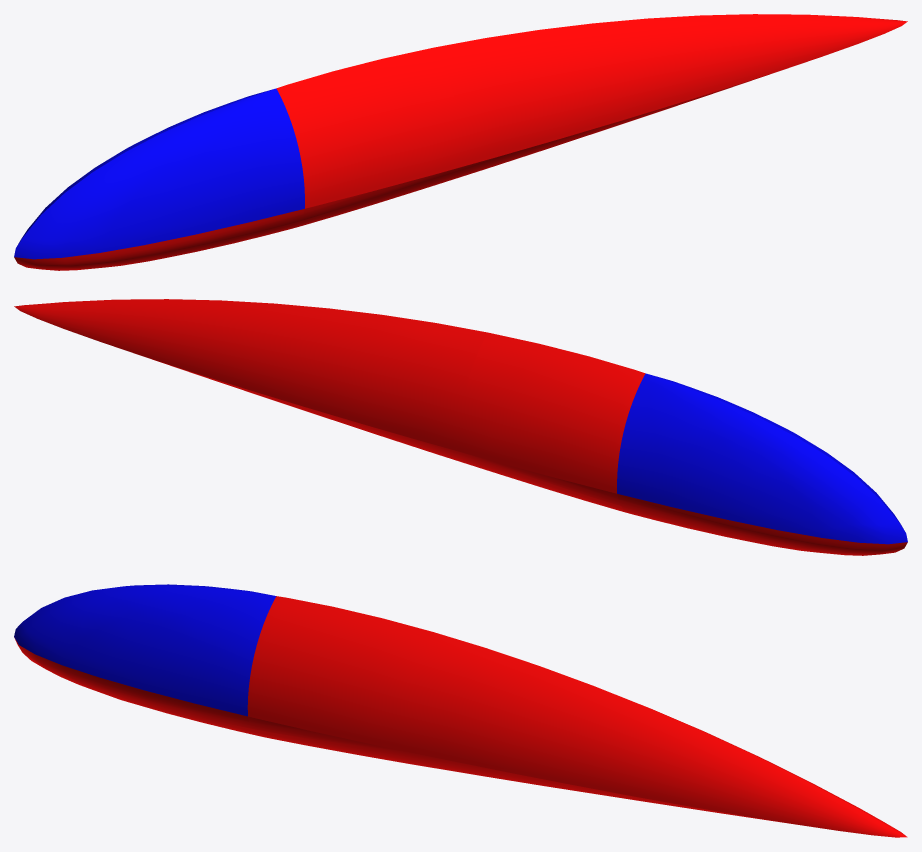
File: complex2.obj
3 views of the same model, one above another, from view 1: azimuth 30°, elevation 25°; view 2: azimuth 150°, elevation 25°; view 3: azimuth 330°, elevation 25° (orthographic).
Parts seen in each view (by area): view 1: Mesh1 Model; view 2: Mesh1 Model; view 3: Mesh1 Model.
Boxes of the visible parts, box(x1,y1,x2,y2) form: Mesh1 Model: box(14, 14, 907, 270); Mesh1 Model: box(14, 299, 907, 555); Mesh1 Model: box(14, 584, 907, 837).
Bounding box in the file's own units: 1.7 × 0.2535 × 0.1912.
